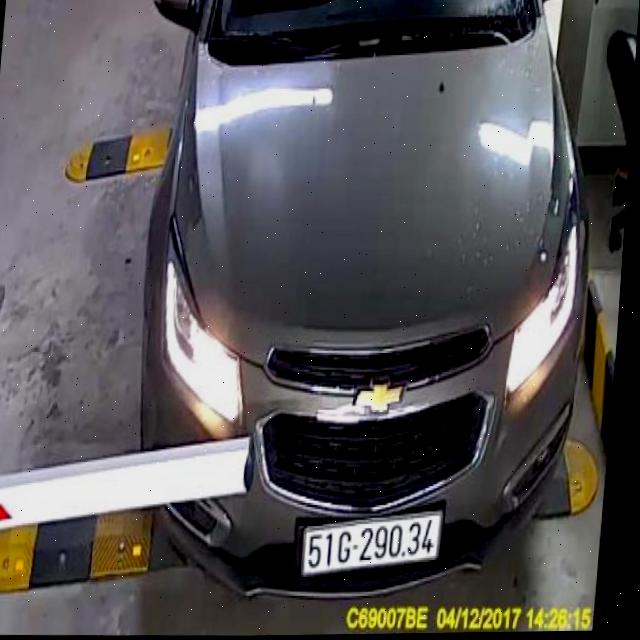car: (92, 0, 616, 615)
plate: (292, 511, 454, 575)
